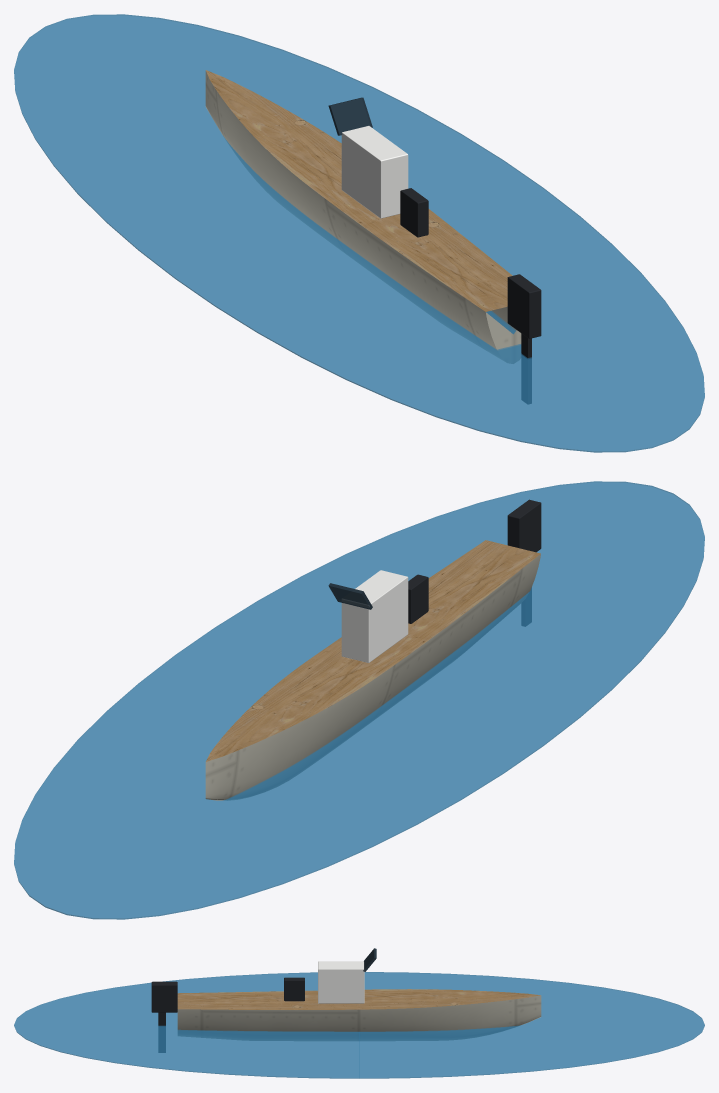
File: vehicle_boat.glb
3 renders of one model, top to bottom at view 1: azimuth 30°, elevation 25°; view 2: azimuth 150°, elevation 25°; view 3: azimuth 270°, elevation 25°, orthographic. The views are drawn at different scales.
Visible parts, largest first — view 1: water, boat; view 2: water, boat; view 3: water, boat.
Part boxes in pixels (x1,y1,x2,y2): water: (14, 14, 704, 452); boat: (205, 70, 541, 403); water: (14, 481, 704, 919); boat: (205, 499, 541, 800); water: (14, 972, 704, 1078); boat: (151, 948, 541, 1052).
Bounding box in the file's own units: 1.6 × 0.7 × 4.4.
6 materials, 3 textured.
